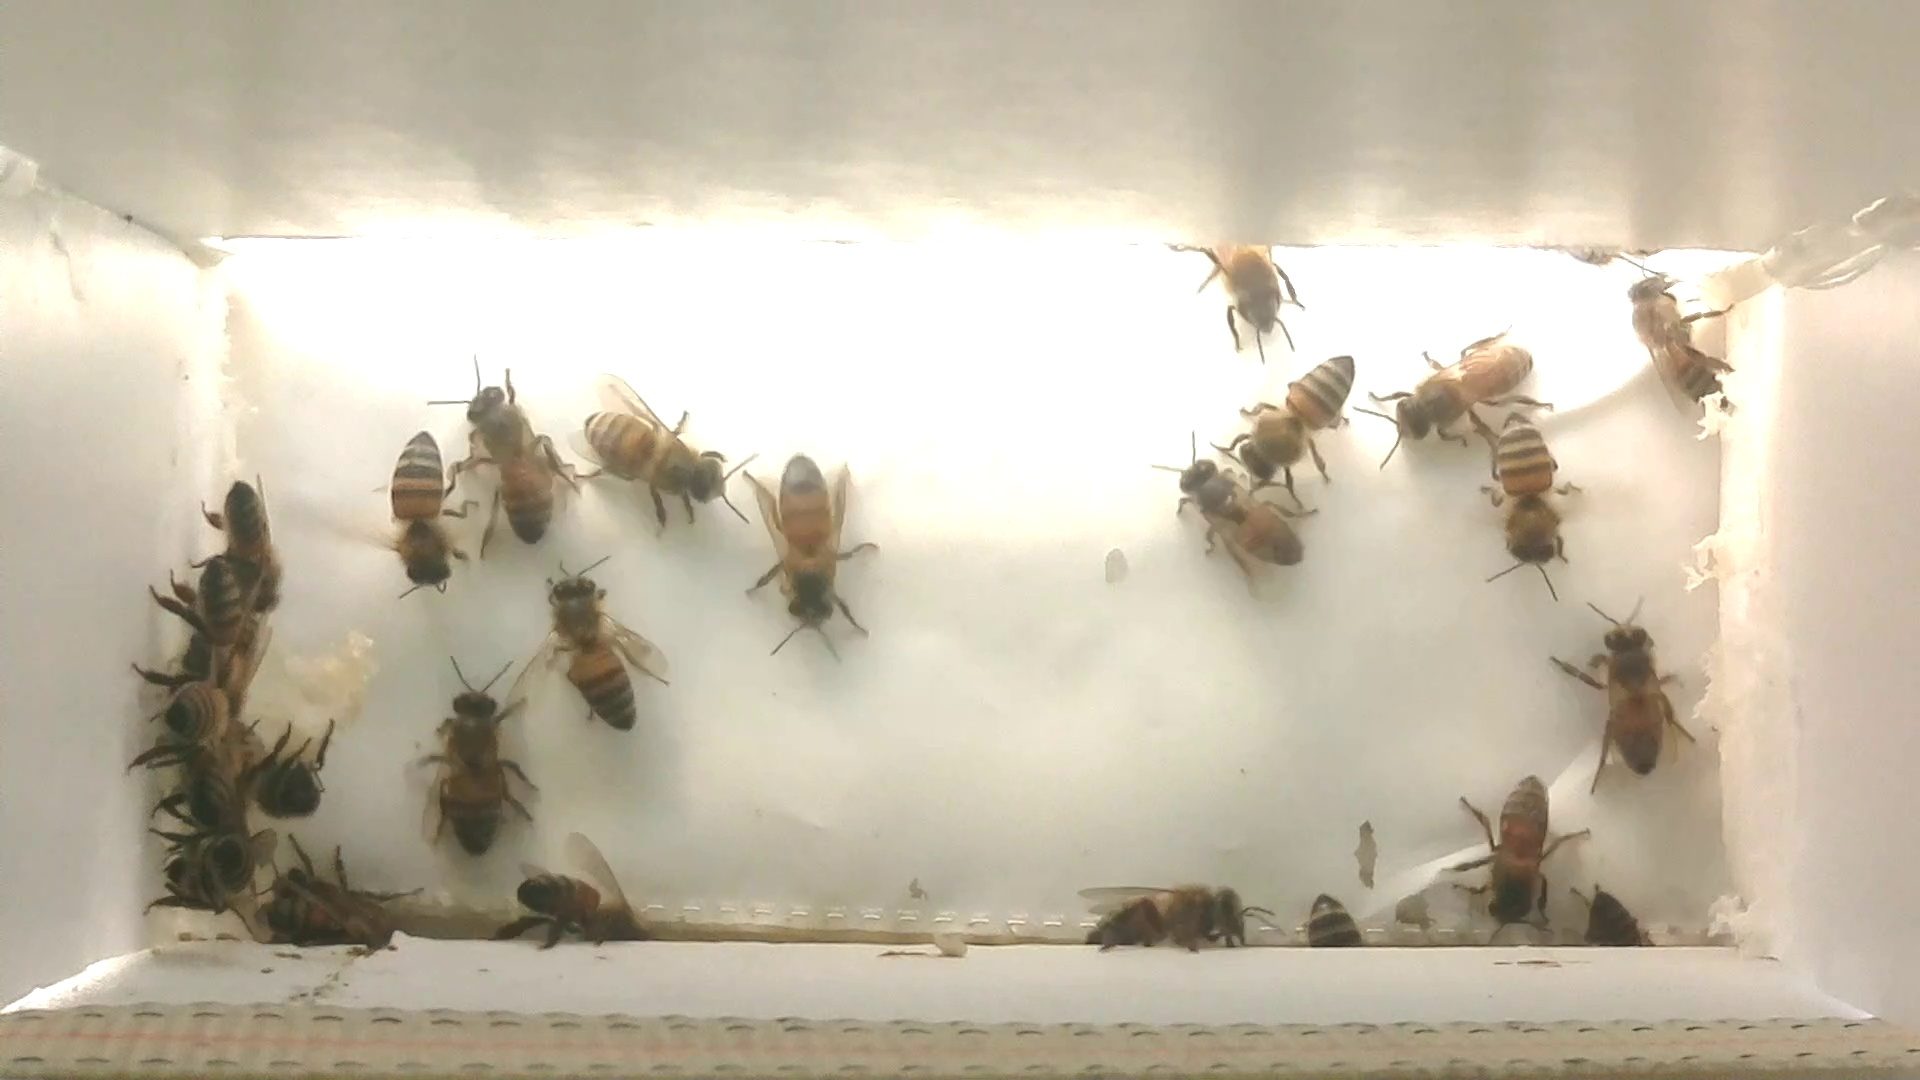bee: (410, 334, 589, 560), (550, 348, 760, 541), (1545, 574, 1718, 804), (736, 431, 894, 669), (326, 396, 495, 609), (400, 641, 558, 866), (516, 549, 684, 744), (1352, 311, 1549, 475), (1141, 426, 1321, 591), (1464, 396, 1594, 615), (1230, 338, 1373, 514), (1447, 760, 1596, 924), (1610, 256, 1741, 431), (495, 829, 666, 963), (1069, 862, 1280, 953), (1171, 223, 1308, 363), (117, 653, 251, 793), (152, 551, 278, 688), (264, 845, 415, 955), (194, 469, 298, 622), (144, 816, 270, 919), (236, 711, 339, 829), (1569, 870, 1662, 961), (1284, 876, 1379, 959)
